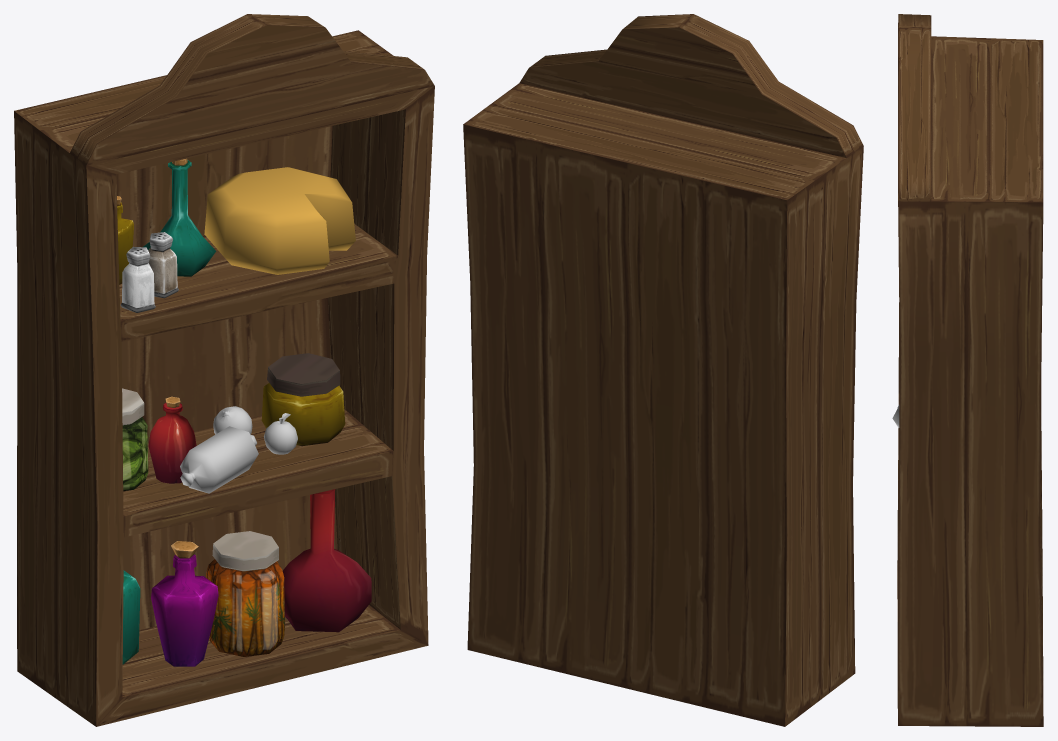
File: Pantry_01.FBX
The picture shows the model from 3 angles, left to right: view 1: azimuth 30°, elevation 25°; view 2: azimuth 150°, elevation 25°; view 3: azimuth 270°, elevation 25°; orthographic projection. The views are drawn at different scales.
Visible parts, largest first — view 1: Pantry_01; view 2: Pantry_01; view 3: Pantry_01.
Part boxes in pixels (box(x1,y1,x2,y2)): Pantry_01: box(14, 14, 434, 726); Pantry_01: box(463, 14, 863, 726); Pantry_01: box(892, 14, 1043, 726).
Size of the model in its own units: 40.13 by 15.91 by 72.47.
